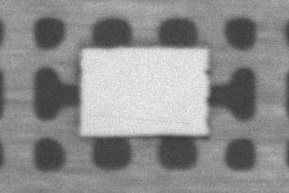DIE_CRACK: (127, 76, 282, 82)
